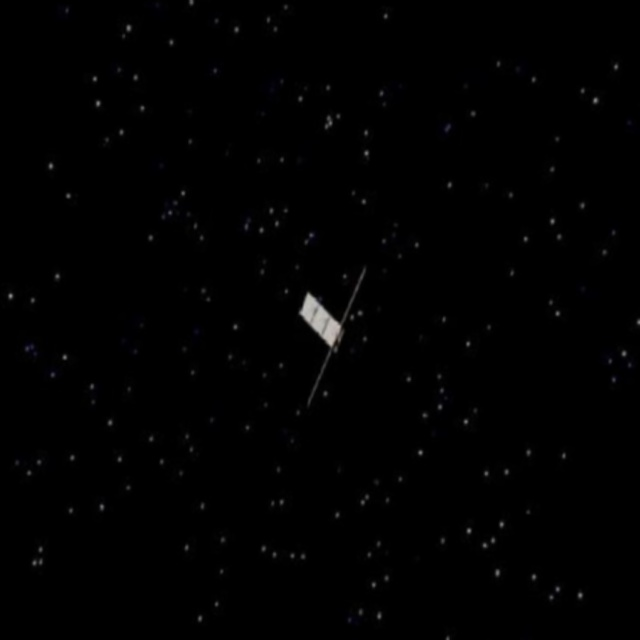satellite: (284, 245, 374, 417)
